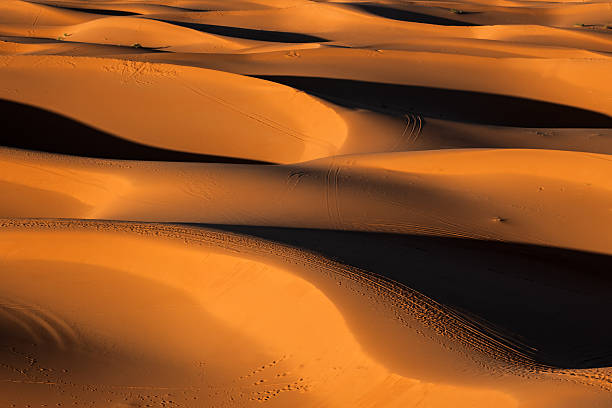animal_foot_print: (5, 207, 604, 385), (10, 355, 179, 405), (240, 355, 309, 401), (115, 54, 182, 86), (251, 377, 310, 402), (239, 355, 287, 379)
